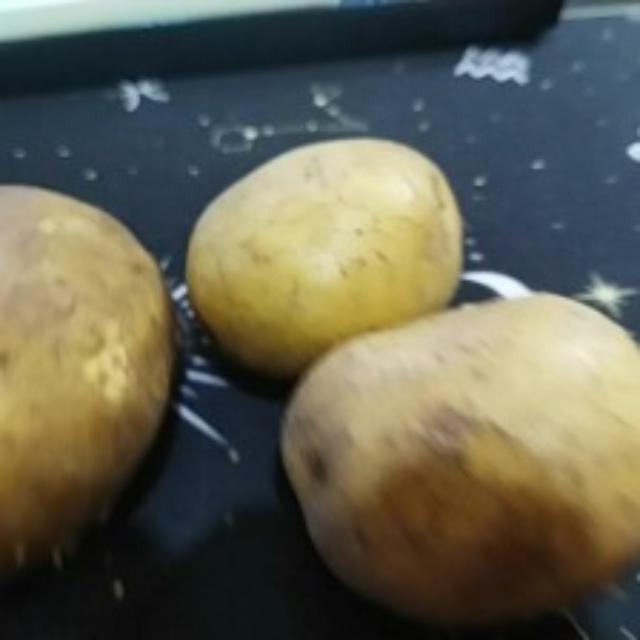Damaged potato: (276, 286, 640, 634), (0, 176, 174, 584)
Potato: (178, 136, 466, 382)
